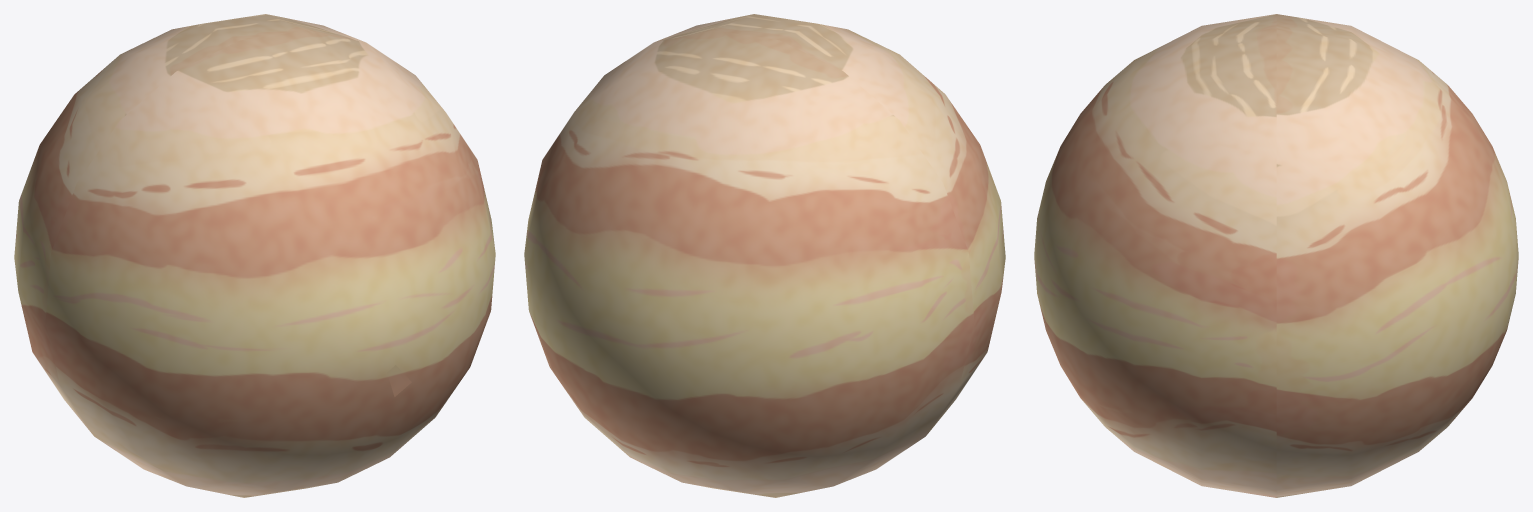
The model's file is Jupiter.glb.
The picture shows the model from 3 angles, left to right: view 1: azimuth 30°, elevation 25°; view 2: azimuth 150°, elevation 25°; view 3: azimuth 270°, elevation 25°; orthographic projection.
Visible parts, largest first — view 1: Planeta; view 2: Planeta; view 3: Planeta.
Boxes of the visible parts, x1,y1,x2,y2 form: Planeta: (14,14,495,497); Planeta: (524,14,1005,497); Planeta: (1034,14,1518,497).
Size of the model in its own units: 0.1127 by 0.1127 by 0.1129.
1 material, 1 textured.
